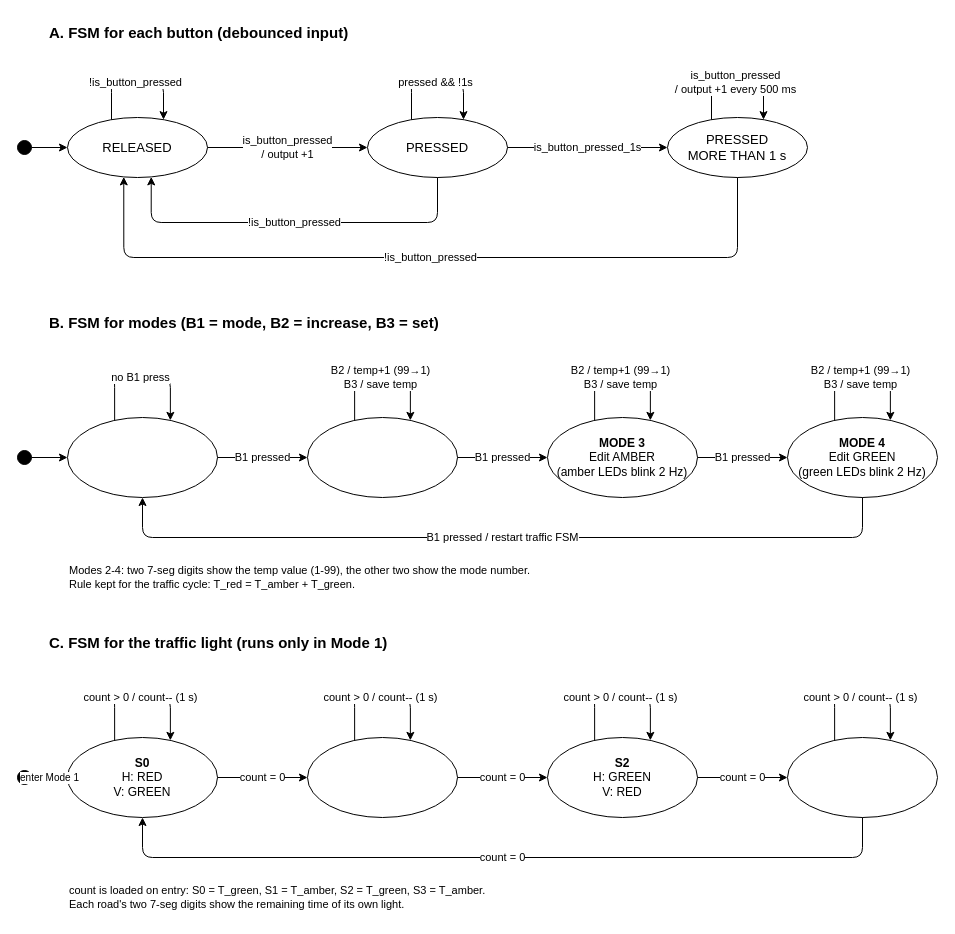
The diagram is 955 pixels wide and 934 high, and some of its shapes have lost their labels. The centre of each missing label's shape, as x and y in pixels:
MODE 1 Normal (traffic FSM runs): the point at 142,457
MODE 2 Edit RED (red LEDs blink 2 Hz): the point at 382,457
S1 H: RED V: AMBER: the point at 382,777
S3 H: AMBER V: RED: the point at 862,777
